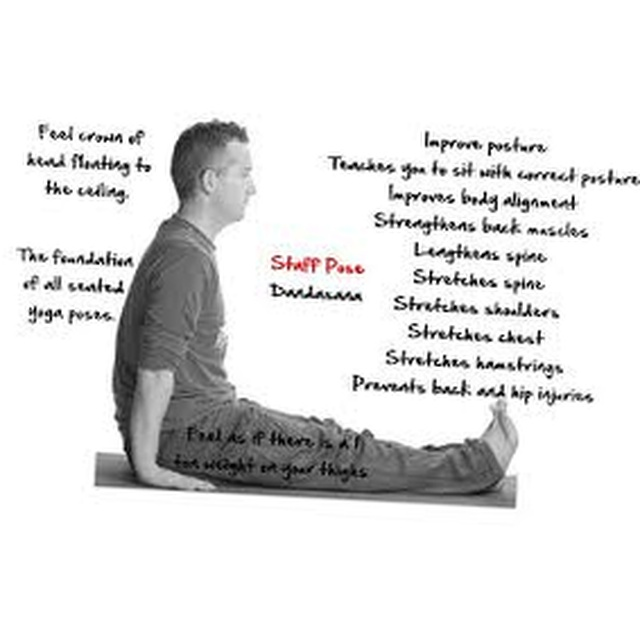Staff_Pose: (113, 120, 521, 491)
